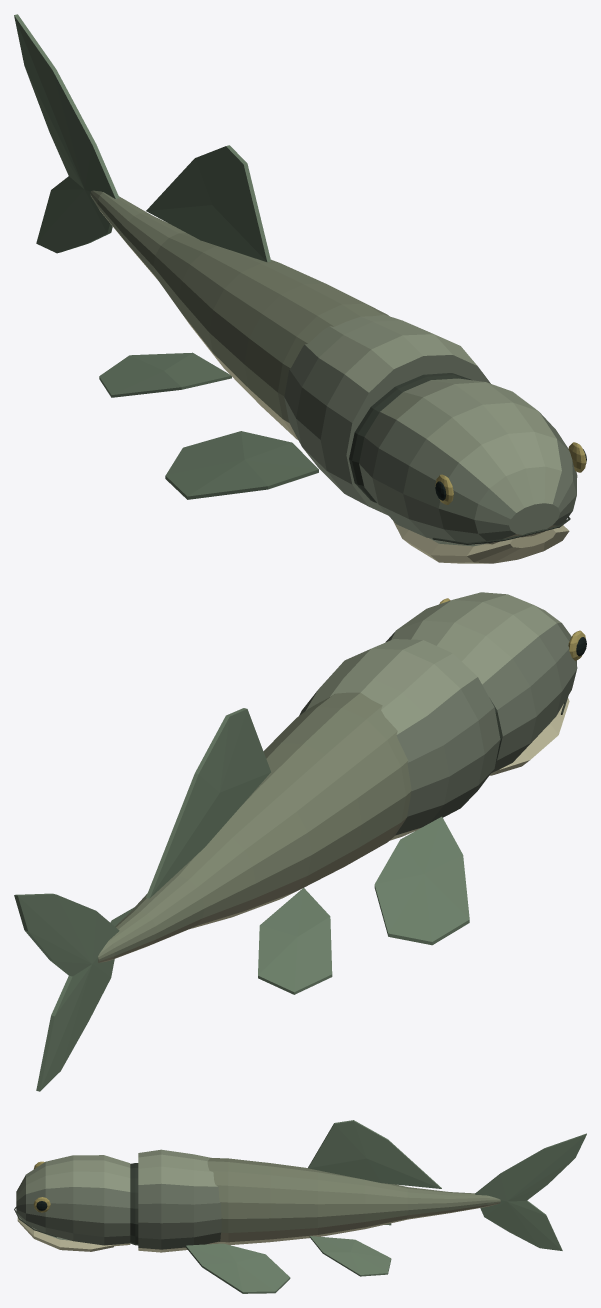
3 renders of one model, top to bottom at view 1: azimuth 30°, elevation 25°; view 2: azimuth 150°, elevation 25°; view 3: azimuth 270°, elevation 25°, orthographic. The views are drawn at different scales.
Visible parts, largest first — view 1: Compact_head_shield, Flexible_trunk_and_caudal_peduncle, Short_thoracic_shield, Unequal_caudal_fin, Dorsal_fin, Pectoral_fin_L, Lateral_pelvic_fin_L, Moderate_lower_jaw, Cranio_thoracic_articulation; view 2: Flexible_trunk_and_caudal_peduncle, Short_thoracic_shield, Compact_head_shield, Unequal_caudal_fin, Pectoral_fin_L, Dorsal_fin, Lateral_pelvic_fin_L, Moderate_lower_jaw; view 3: Flexible_trunk_and_caudal_peduncle, Compact_head_shield, Short_thoracic_shield, Unequal_caudal_fin, Dorsal_fin, Pectoral_fin_R, Lateral_pelvic_fin_R, Moderate_lower_jaw, Cranio_thoracic_articulation.
Part boxes in pixels (x1,y1,x2,y2): Compact_head_shield: (359, 378, 577, 544); Flexible_trunk_and_caudal_peduncle: (90, 190, 389, 439); Short_thoracic_shield: (284, 314, 490, 515); Unequal_caudal_fin: (14, 14, 119, 253); Dorsal_fin: (146, 145, 270, 262); Pectoral_fin_L: (165, 431, 318, 499); Lateral_pelvic_fin_L: (99, 352, 231, 397); Moderate_lower_jaw: (393, 521, 569, 563); Cranio_thoracic_articulation: (349, 373, 472, 502); Flexible_trunk_and_caudal_peduncle: (98, 692, 411, 962); Short_thoracic_shield: (299, 639, 500, 840); Compact_head_shield: (385, 592, 577, 772); Unequal_caudal_fin: (14, 893, 119, 1091); Pectoral_fin_L: (374, 816, 469, 945); Dorsal_fin: (146, 708, 270, 898); Lateral_pelvic_fin_L: (258, 888, 332, 994); Moderate_lower_jaw: (489, 698, 569, 775); Flexible_trunk_and_caudal_peduncle: (207, 1158, 500, 1245); Compact_head_shield: (16, 1155, 130, 1246); Short_thoracic_shield: (138, 1149, 221, 1252); Unequal_caudal_fin: (475, 1133, 586, 1250); Dorsal_fin: (308, 1120, 441, 1188); Pectoral_fin_R: (185, 1243, 290, 1293); Lateral_pelvic_fin_R: (309, 1236, 391, 1276); Moderate_lower_jaw: (17, 1217, 113, 1251); Cranio_thoracic_articulation: (130, 1163, 138, 1245).
Bounding box in the file's own units: 0.11 × 0.0926 × 0.3513.
